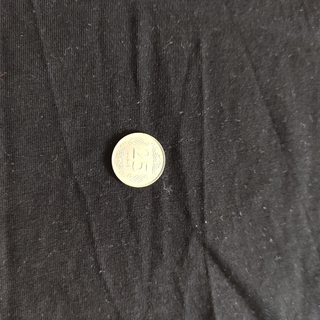25KURUS: (109, 130, 167, 189)
